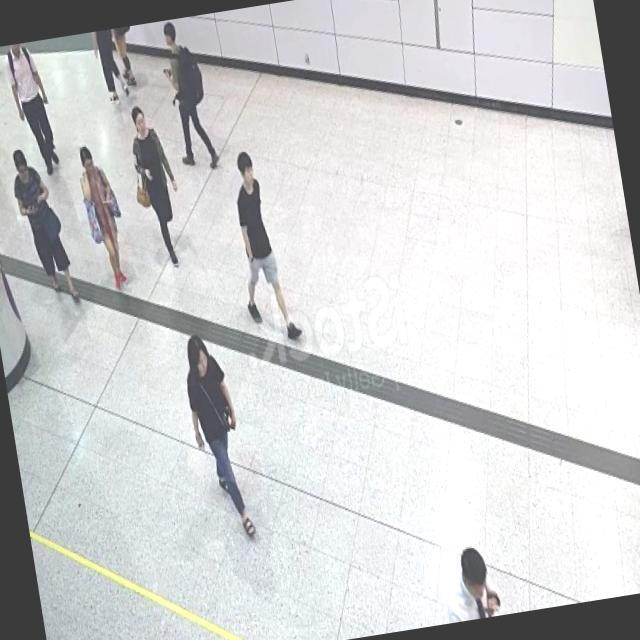person: (174, 322, 257, 544), (224, 147, 304, 357), (6, 142, 78, 308), (122, 101, 188, 280), (159, 15, 220, 176), (72, 138, 134, 288), (4, 40, 58, 178), (433, 526, 508, 624), (87, 27, 135, 109), (112, 26, 144, 90)
